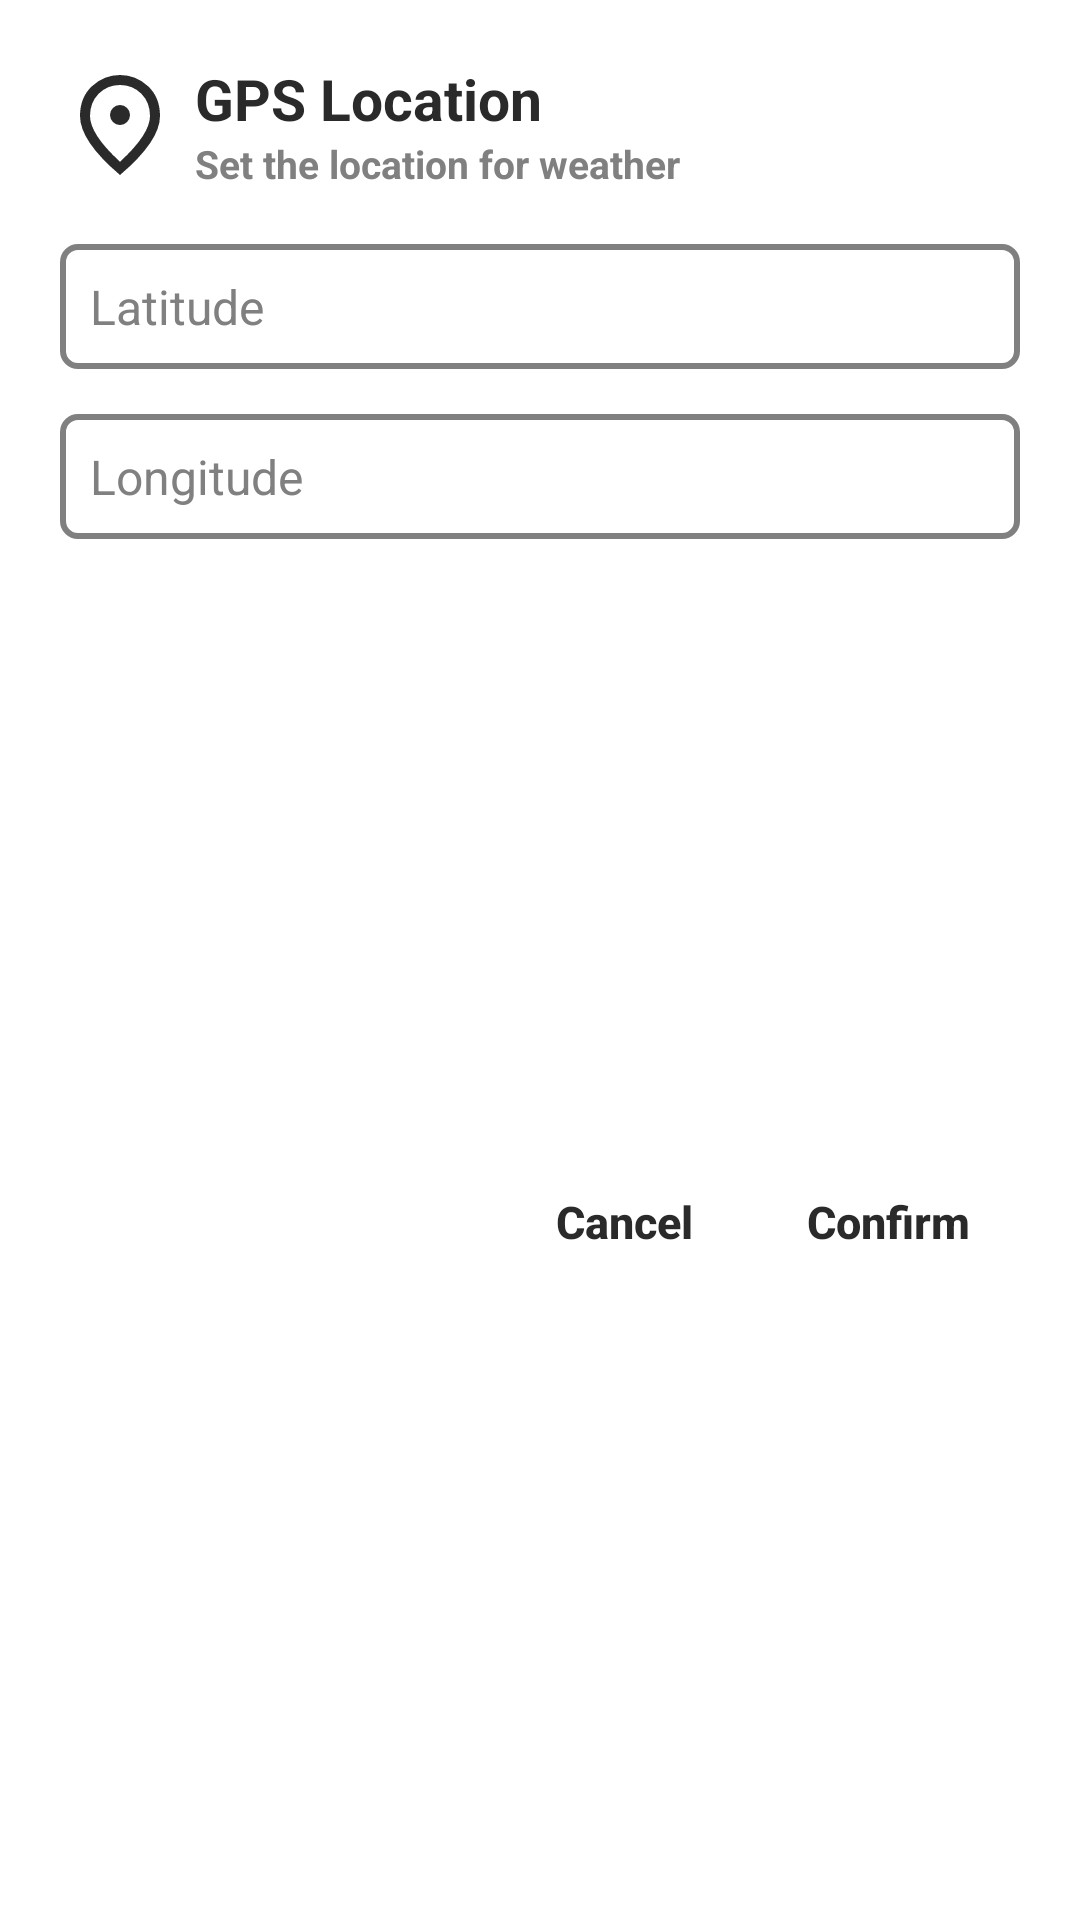

Locate icon controls on the screen. Image size 1080px x 1920px, boxes as (x1, y1, x2, y2).
geoposition: (80, 75, 160, 175)
